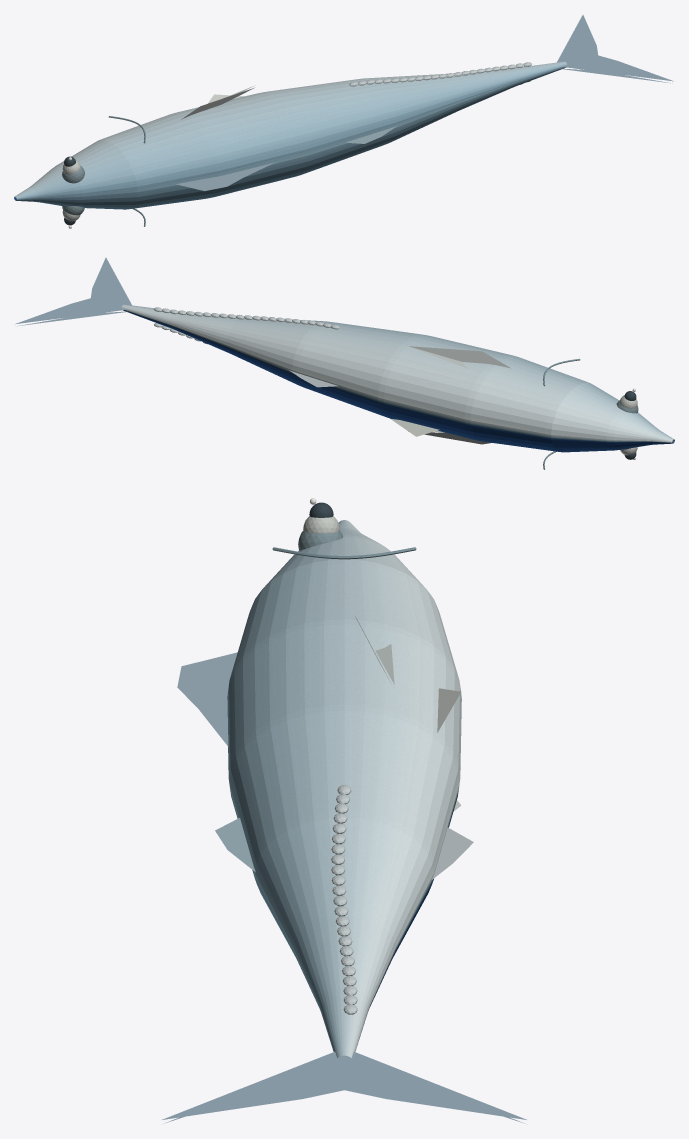
File: Ikan_Cencaru.glb
3 views of the same model, one above another, from view 1: azimuth 30°, elevation 25°; view 2: azimuth 150°, elevation 25°; view 3: azimuth 270°, elevation 25° (orthographic). The views are drawn at different scales.
Visible parts, largest first — view 1: fish; view 2: fish; view 3: fish.
Part boxes in pixels (box(x1,y1,x2,y2)): fish: box(14, 15, 673, 228); fish: box(15, 257, 674, 469); fish: box(162, 498, 526, 1123).
Size of the model in its own units: 3.39 by 0.492 by 0.88.
Materials: 1 (1 with a texture image).
